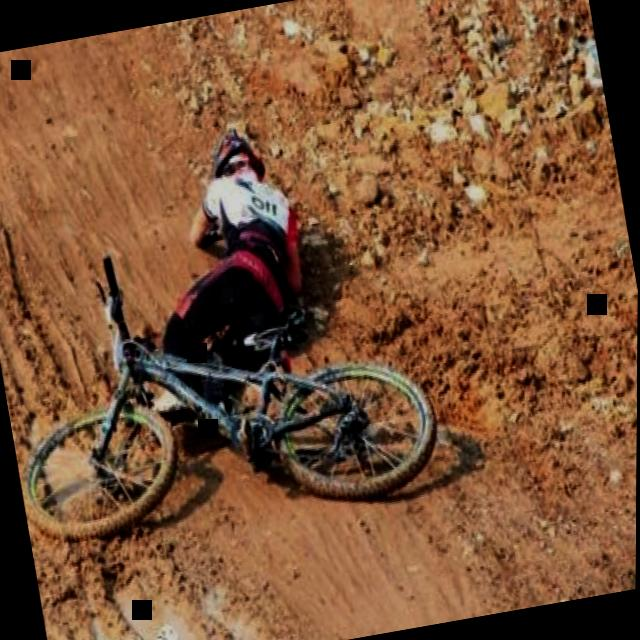Fall-Detected: (97, 99, 354, 457)
